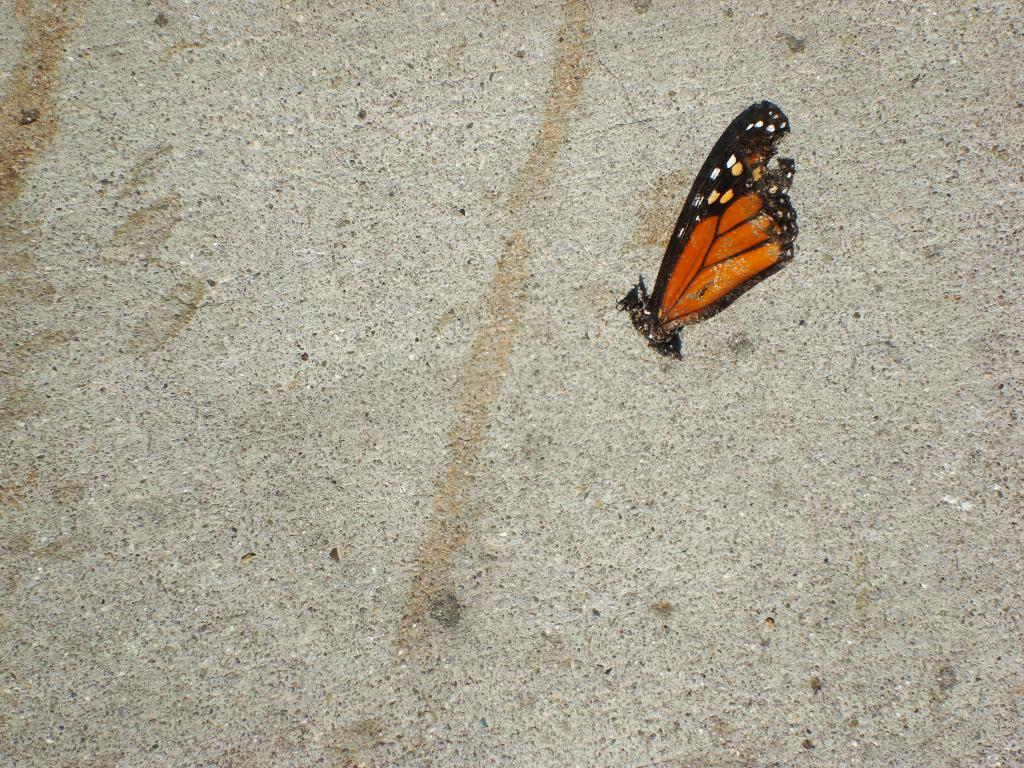Butterfly: (613, 80, 798, 375)
